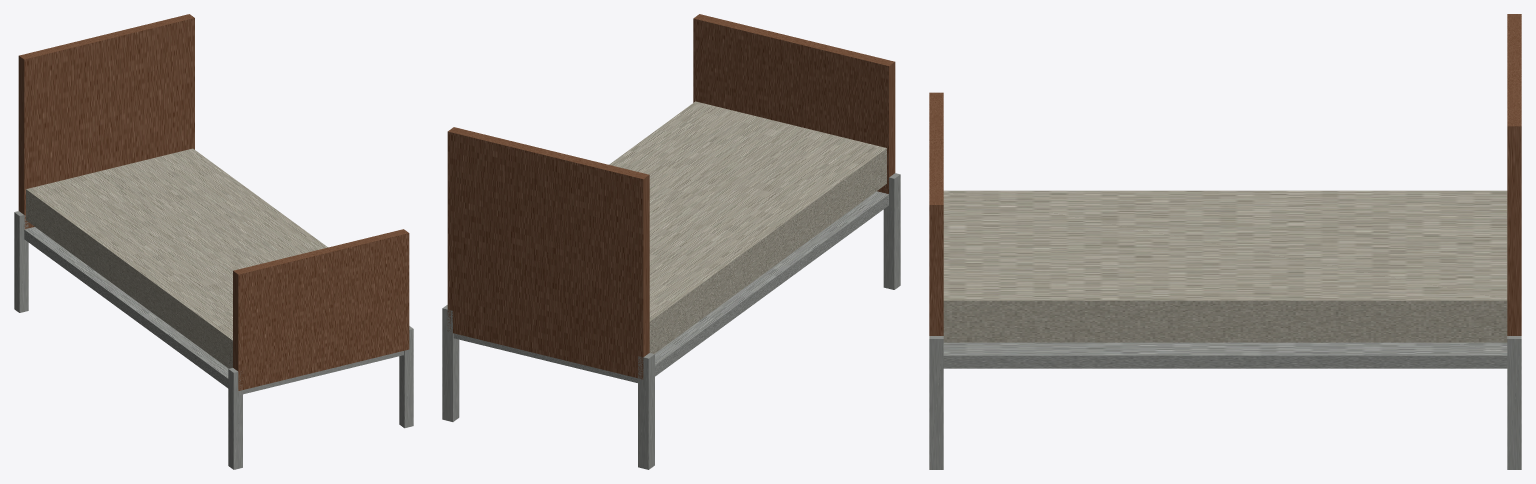
3 views of the same model, side by side, from view 1: azimuth 30°, elevation 25°; view 2: azimuth 150°, elevation 25°; view 3: azimuth 270°, elevation 25° (orthographic). The views are drawn at different scales.
Visible parts, largest first — view 1: synthetic; view 2: synthetic; view 3: synthetic.
Boxes of the visible parts, box(x1,y1,x2,y2) form: synthetic: box(14, 14, 413, 469); synthetic: box(442, 14, 900, 469); synthetic: box(929, 14, 1521, 469).
Bounding box in the file's own units: 1.65 × 2.21 × 3.48.
1 material, 1 textured.
